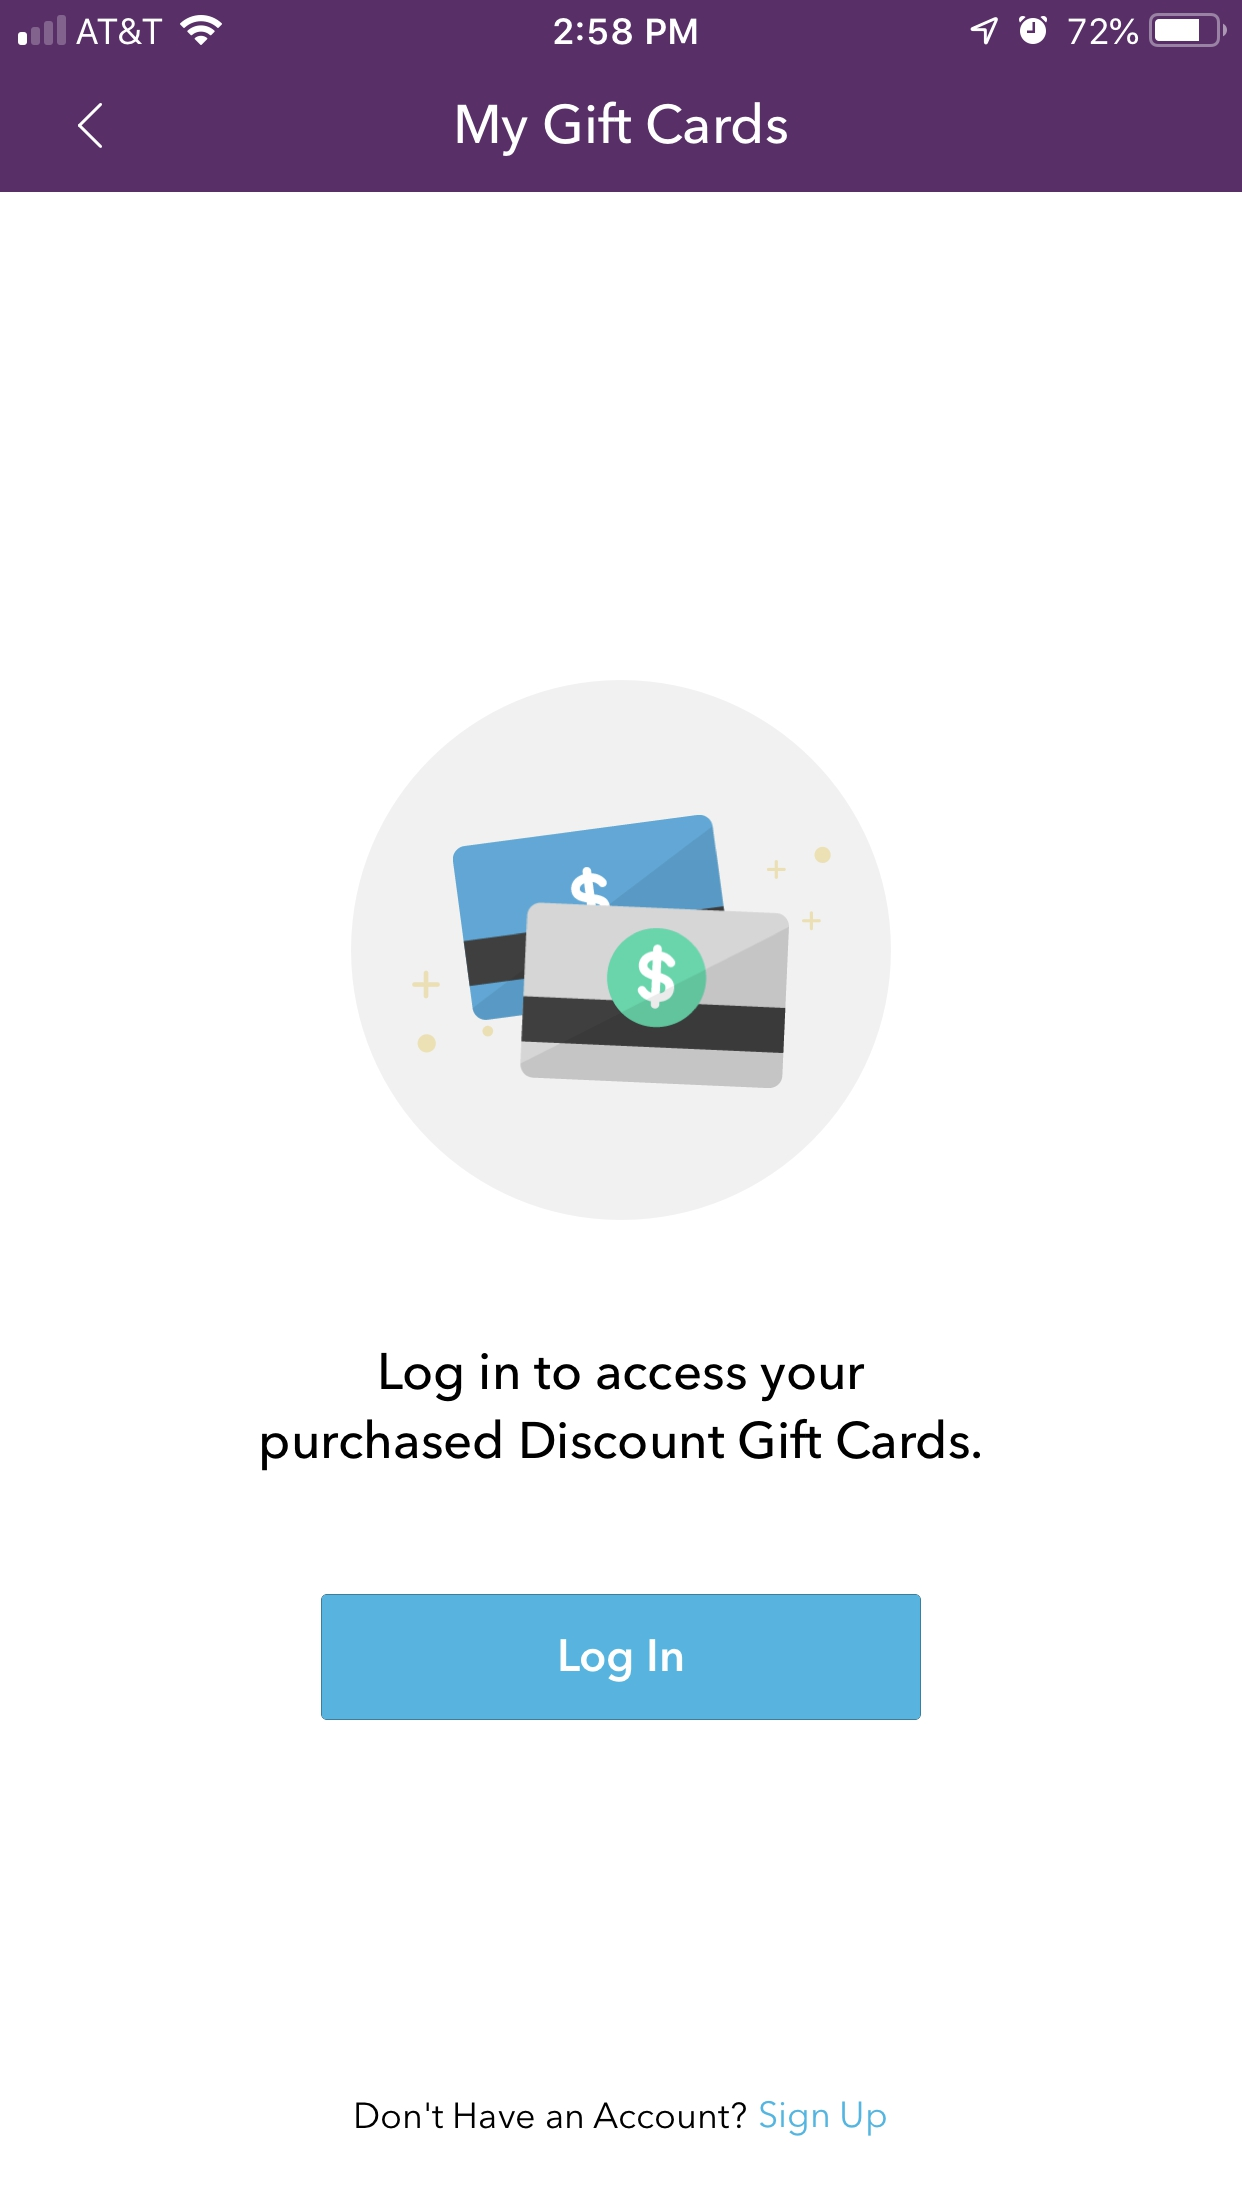Icon: (77, 103, 105, 150)
Image: (350, 679, 892, 1221)
Text: (262, 1353, 981, 1473), (356, 2100, 887, 2137), (456, 102, 789, 158)
TextButton: (321, 1594, 922, 1721)
UpperTaskBar: (2, 2, 1242, 49)
